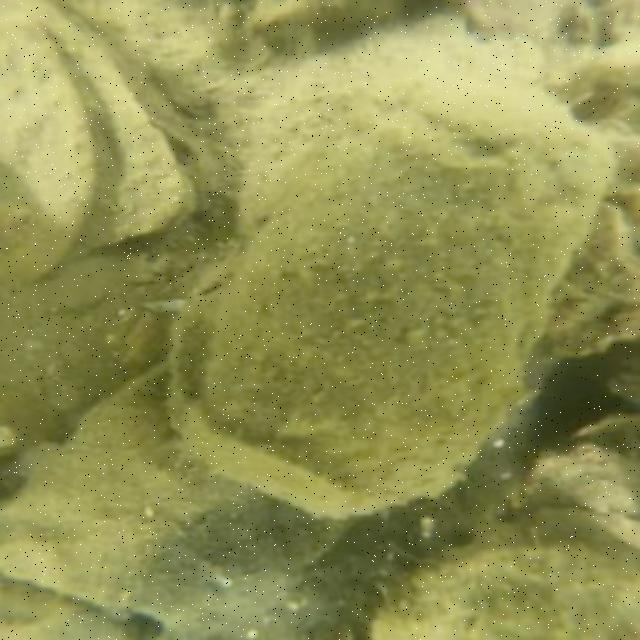Oyster-Closed: (4, 365, 354, 633), (0, 0, 191, 254), (376, 503, 638, 638), (0, 3, 97, 283)
Oyster-Open: (158, 64, 621, 515)
